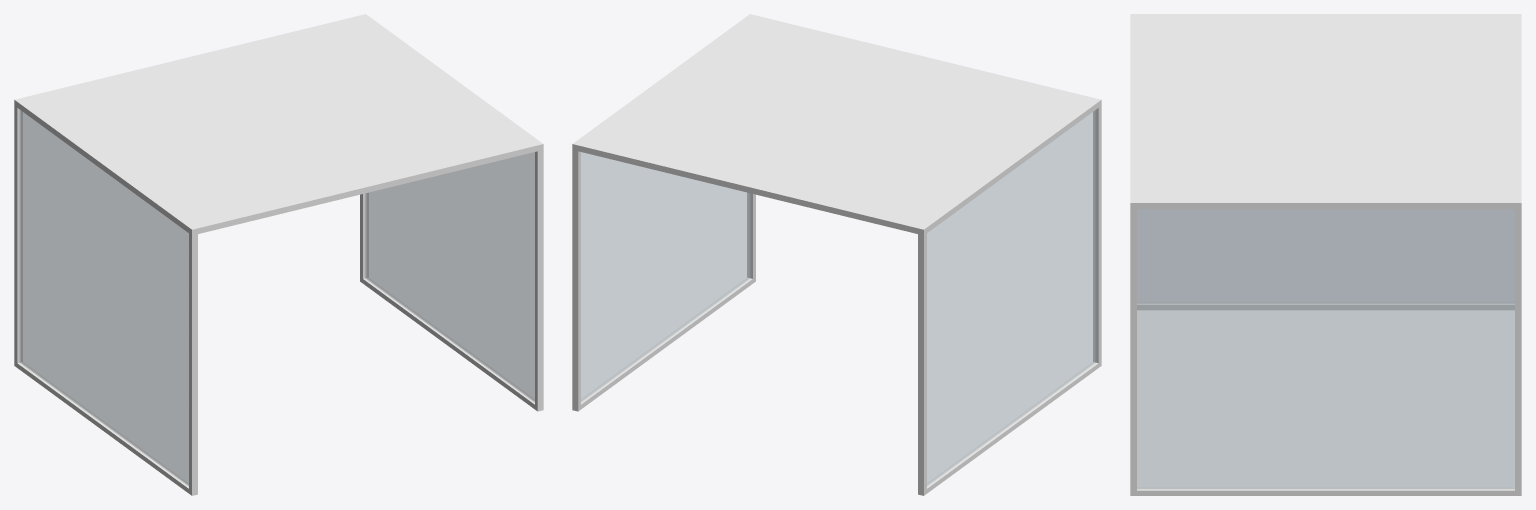
File: cnlounge_cleanwall.fbx
3 views of the same model, side by side, from view 1: azimuth 30°, elevation 25°; view 2: azimuth 150°, elevation 25°; view 3: azimuth 270°, elevation 25° (orthographic). The views are drawn at different scales.
Visible parts, largest first — view 1: cnlounge_cleanwall; view 2: cnlounge_cleanwall; view 3: cnlounge_cleanwall.
Part boxes in pixels (<box>): cnlounge_cleanwall: <box>14,14,543,495</box>; cnlounge_cleanwall: <box>572,14,1101,495</box>; cnlounge_cleanwall: <box>1130,14,1521,495</box>.
Bounding box in the file's own units: 0.051 × 0.0369 × 0.0446.
2 materials, 2 textured.
